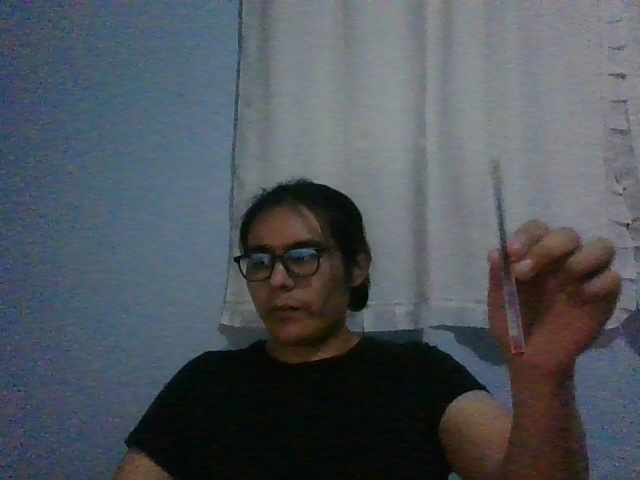pluma: (489, 154, 527, 356)
